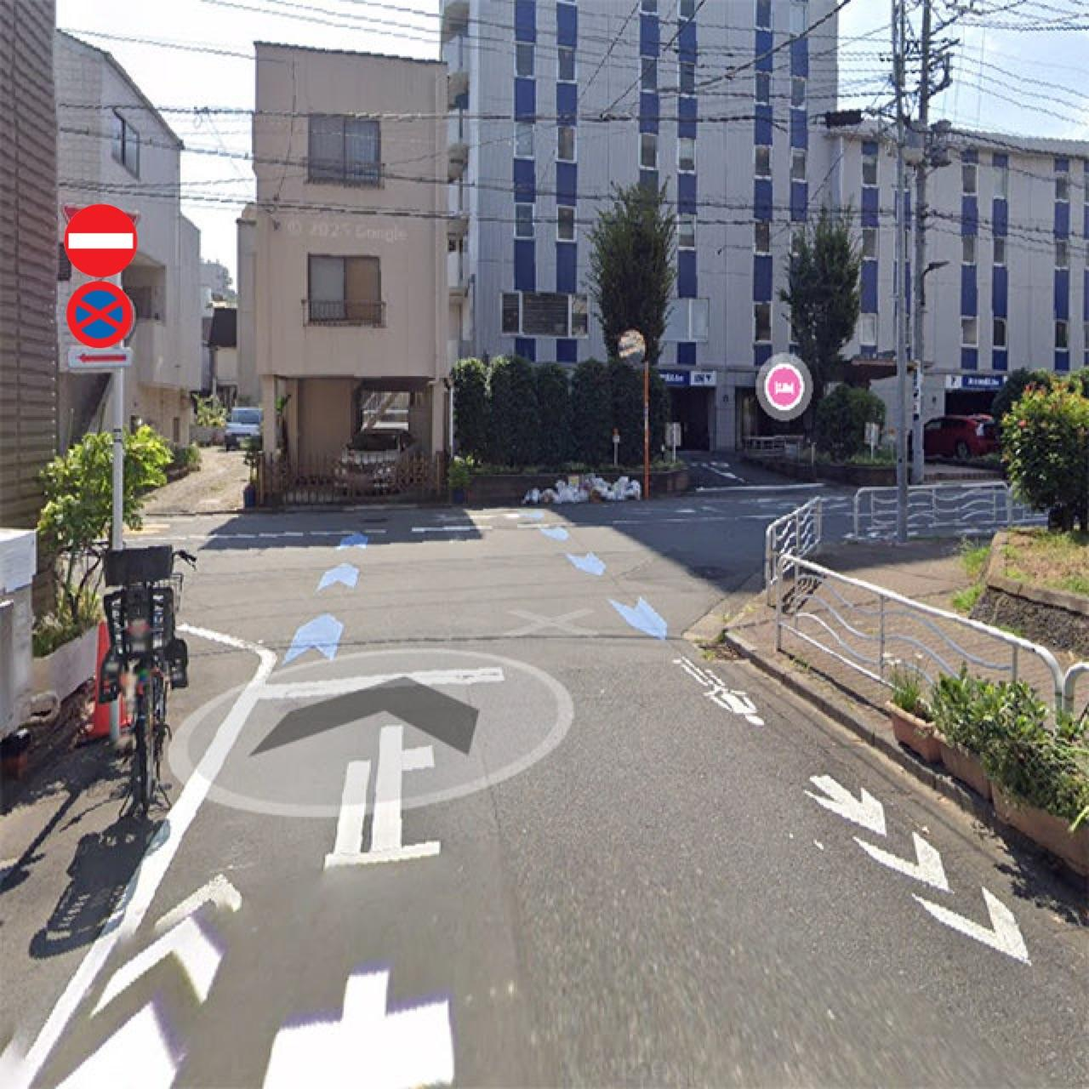barrier: (60, 201, 141, 277)
stop_sign: (64, 286, 137, 352)
